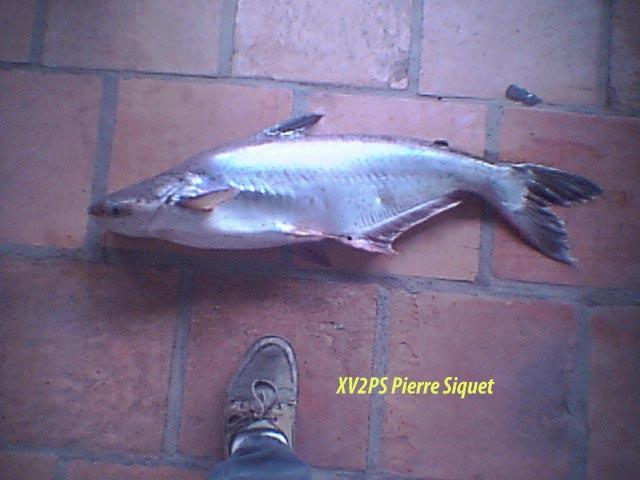Mulut: (76, 175, 134, 251)
Sirip Anal: (332, 189, 482, 271)
Sirip Dada: (164, 182, 246, 214)
Sirip Ekor: (508, 142, 610, 274)
Sirip Punggung: (250, 105, 336, 147)
